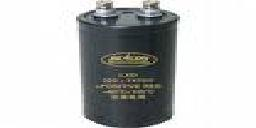Electrolytic-Capacitor: (74, 1, 183, 128)
